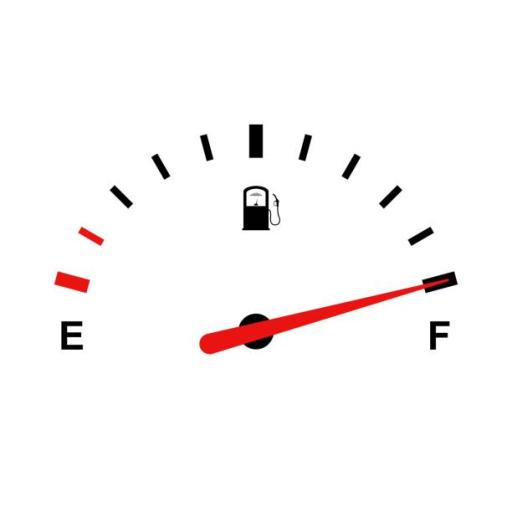empty: (59, 315, 86, 354)
fuel_icon: (240, 182, 282, 234)
full: (426, 317, 452, 350)
guage_area: (49, 123, 461, 367)
needle_center: (234, 308, 280, 352)
needle_tip: (414, 274, 452, 296)
